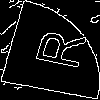R: (24, 25, 87, 71)
